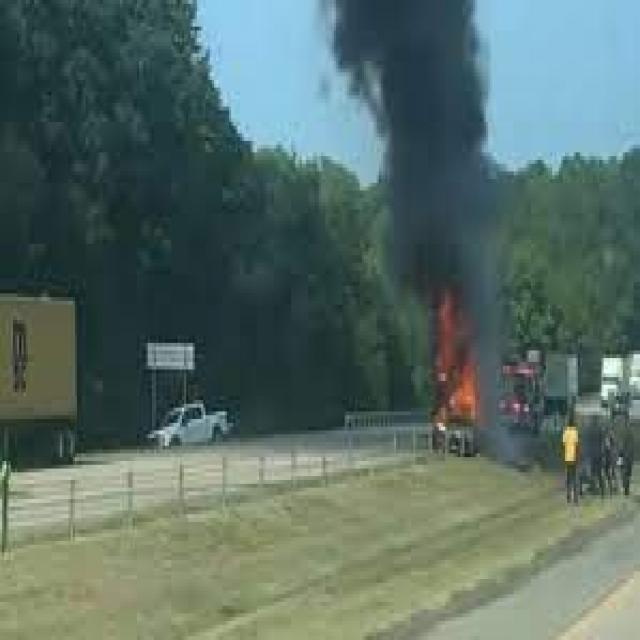fire: (432, 301, 478, 434)
smoke: (321, 4, 512, 301)
